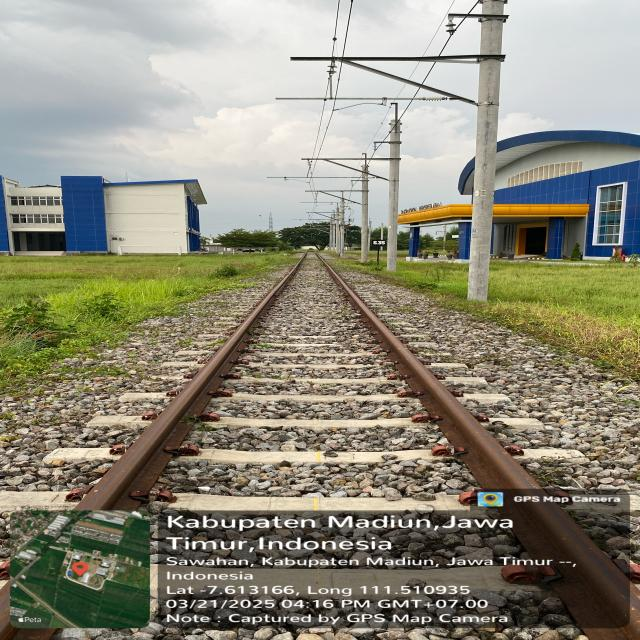rail-detection: (323, 260, 632, 640), (75, 261, 301, 510)
